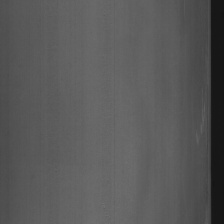silk_spot: (188, 84, 208, 153)
